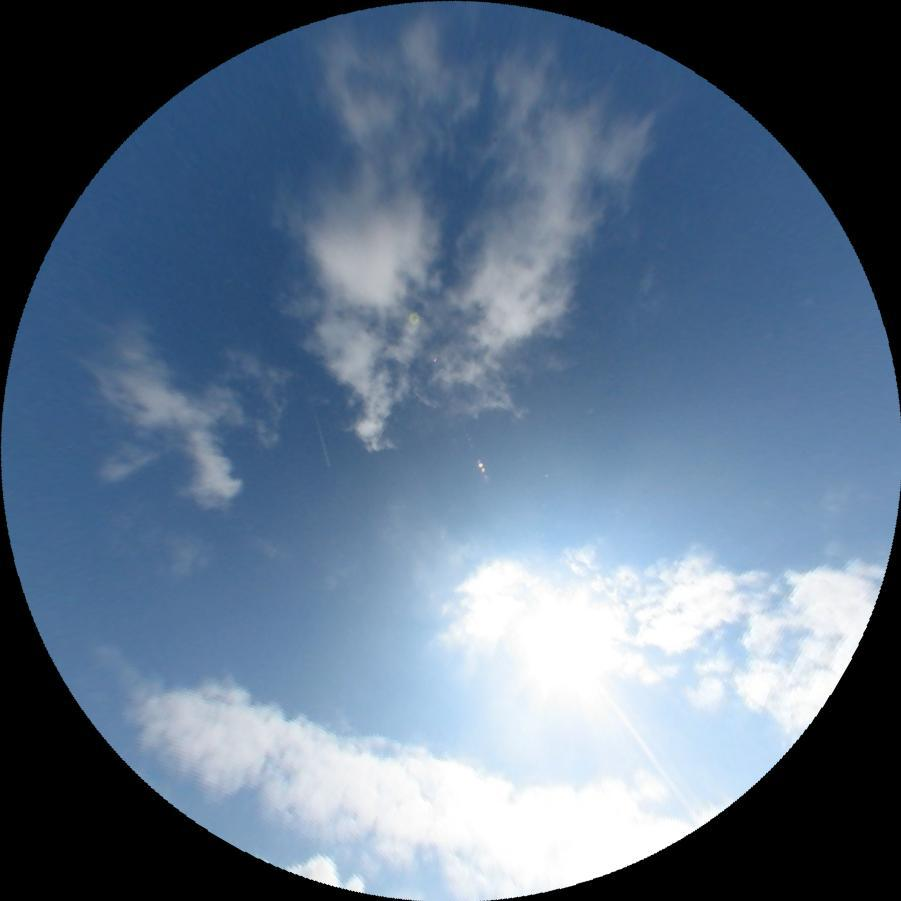contrail young: (300, 358, 330, 470)
parasite: (590, 673, 705, 827)
sun: (494, 587, 617, 704)
